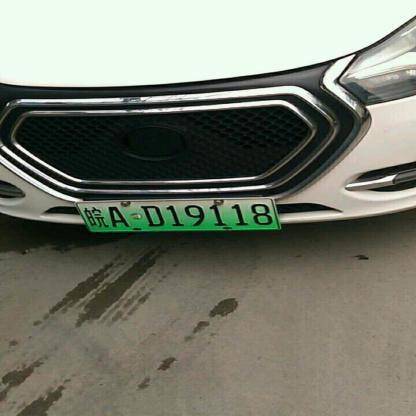lp: (75, 197, 281, 231)
